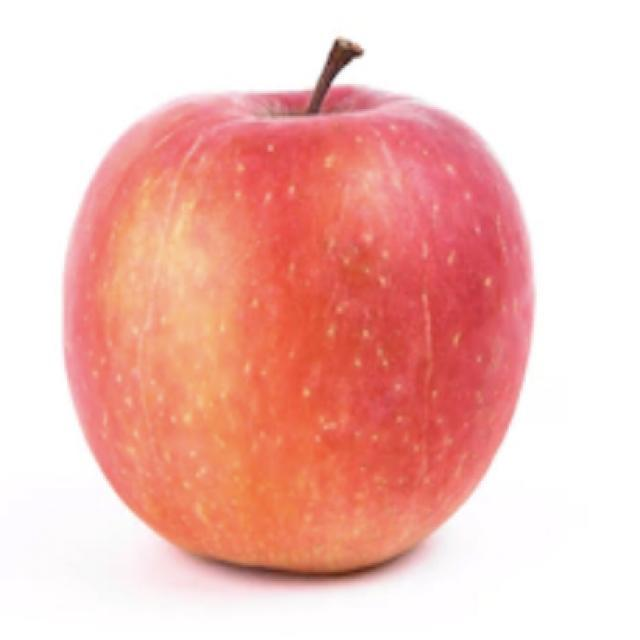Fresh Apple: (72, 95, 540, 583)
